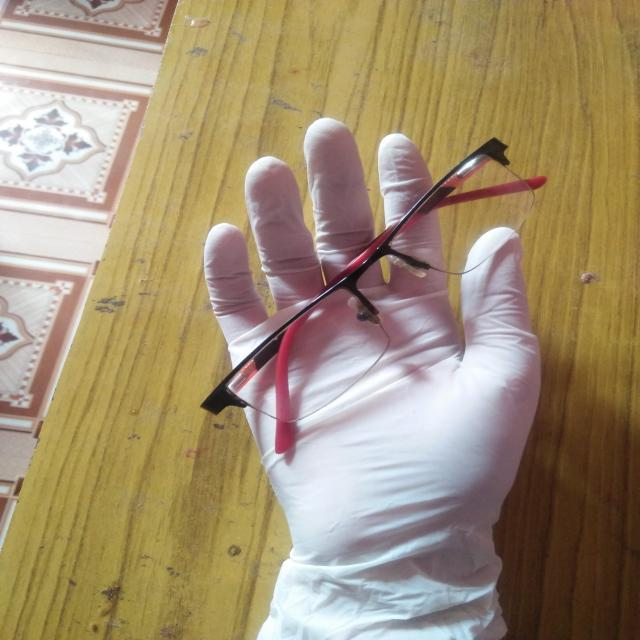glove_hand: (197, 113, 549, 640)
